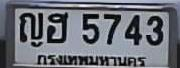3: (145, 15, 162, 45)
4: (124, 14, 141, 44)
5: (82, 13, 98, 43)
7: (103, 13, 120, 44)
A13: (19, 11, 44, 48)
A44: (46, 11, 68, 43)
BKK: (34, 51, 148, 68)
